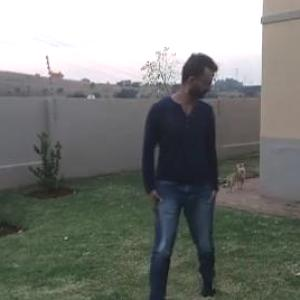follow: (131, 44, 225, 299)
